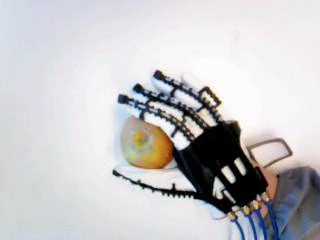apple: (120, 112, 173, 172)
hand: (112, 69, 270, 221)
